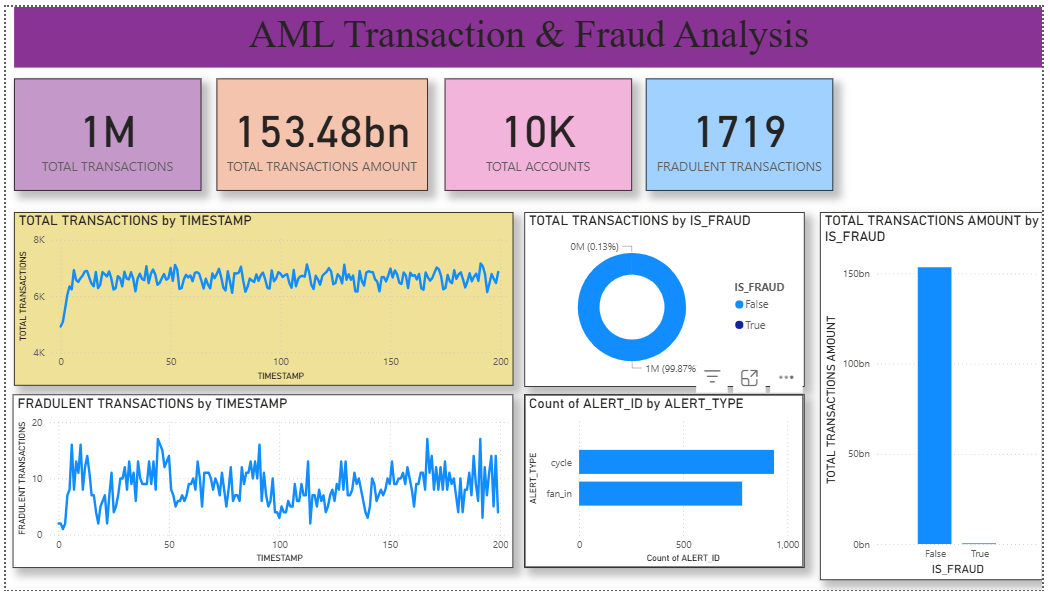

The dashboard page shown, as its layout file describes it:
{"tool":"powerbi","page":{"name":"AML TRANSACTIONS & FRAUD ANALYSIS","canvas":[1280,720],"ordinal":0},"visuals":[{"type":"textbox","box":[9.4,0,1271.1,74.9],"z":0},{"type":"card","fields":{"Values":["Accounts.TOTAL ACCOUNTS"]},"box":[541.2,88.9,230.8,138.8],"z":1000},{"type":"card","fields":{"Values":["Transactions.TOTAL TRANSACTIONS AMOUNT"]},"box":[260.4,88.9,260.4,138.8],"z":2000},{"type":"card","fields":{"Values":["Transactions.TOTAL TRANSACTIONS"]},"box":[9.4,88.9,230.8,138.8],"z":3000},{"type":"card","fields":{"Values":["Transactions.FRADULENT TRANSACTIONS"]},"box":[790.7,88.9,230.8,138.8],"z":4000},{"type":"lineChart","fields":{"Category":["Transactions.TIMESTAMP"],"Y":["Transactions.TOTAL TRANSACTIONS"]},"box":[9.7,254.1,616.5,213.8],"z":5000},{"type":"donutChart","fields":{"Category":["Transactions.IS_FRAUD"],"Y":["Transactions.TOTAL TRANSACTIONS"]},"box":[640.1,254.1,345.7,215.2],"z":6000},{"type":"lineChart","fields":{"Y":["Transactions.FRADULENT TRANSACTIONS"],"Category":["Transactions.TIMESTAMP"]},"box":[8.3,477.6,617.8,213.8],"z":7000},{"type":"clusteredBarChart","fields":{"Category":["Alerts.ALERT_TYPE"],"Y":["CountNonNull(Alerts.ALERT_ID)"]},"box":[640.1,477.6,345.7,213.8],"z":8000},{"type":"clusteredColumnChart","fields":{"Category":["Transactions.IS_FRAUD"],"Y":["Transactions.TOTAL TRANSACTIONS AMOUNT"]},"box":[1005.2,254.1,274.9,454],"z":9000}]}

Visuals, with their boxes in screenshot pixels (x1, y1, x2, y2), scaled from the page's 1280x720 canvas onto the 1050x592 screenshot:
textbox: 8,0,1049,62
card - Accounts.TOTAL ACCOUNTS: 444,73,633,187
card - Transactions.TOTAL TRANSACTIONS AMOUNT: 214,73,427,187
card - Transactions.TOTAL TRANSACTIONS: 8,73,197,187
card - Transactions.FRADULENT TRANSACTIONS: 649,73,838,187
lineChart - Transactions.TIMESTAMP x Transactions.TOTAL TRANSACTIONS: 8,209,514,385
donutChart - Transactions.IS_FRAUD x Transactions.TOTAL TRANSACTIONS: 525,209,809,386
lineChart - Transactions.FRADULENT TRANSACTIONS x Transactions.TIMESTAMP: 7,393,514,568
clusteredBarChart - Alerts.ALERT_TYPE x CountNonNull(Alerts.ALERT_ID): 525,393,809,568
clusteredColumnChart - Transactions.IS_FRAUD x Transactions.TOTAL TRANSACTIONS AMOUNT: 825,209,1049,582
